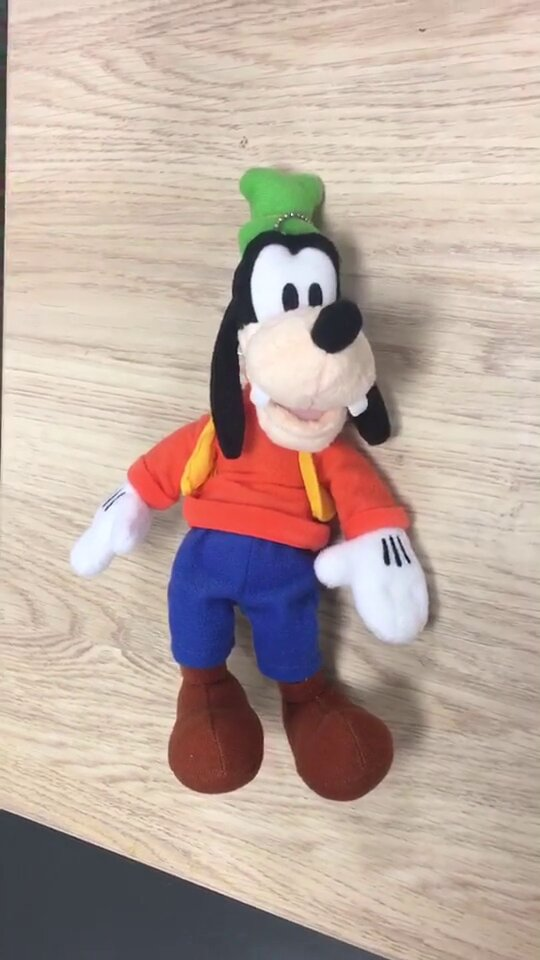goofy: (69, 164, 432, 805)
